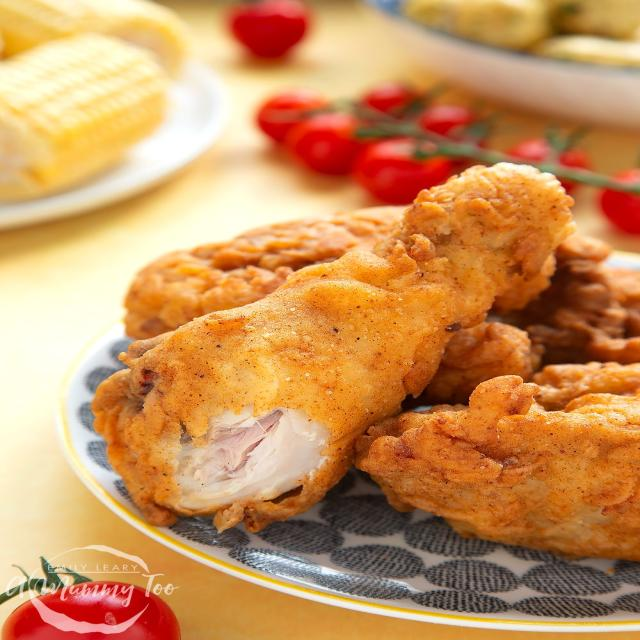Frango: (90, 158, 640, 560)
